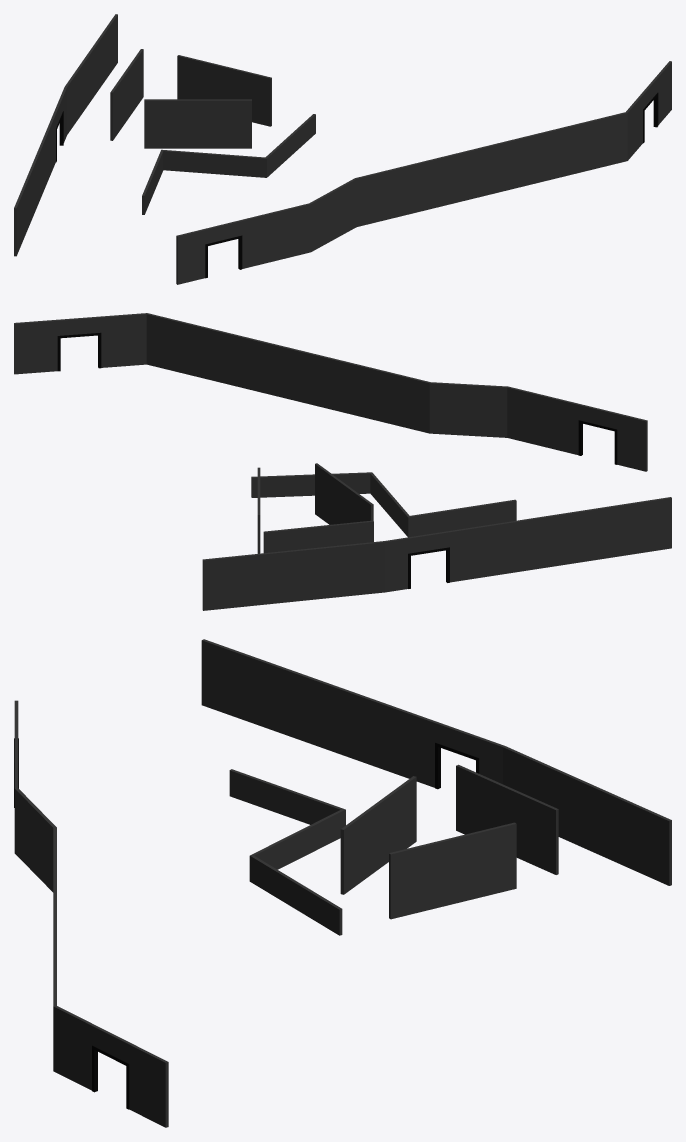
Rendered from Parede_ExatasEdaTerra_PrimeiroAndar.gltf.
The picture shows the model from 3 angles, top to bottom: view 1: azimuth 30°, elevation 25°; view 2: azimuth 150°, elevation 25°; view 3: azimuth 270°, elevation 25°; orthographic projection. The views are drawn at different scales.
Parts seen in each view (by area): view 1: Parede_Museu_08.010; view 2: Parede_Museu_08.010; view 3: Parede_Museu_08.010.
Boxes of the visible parts, box(x1,y1,x2,y2) form: Parede_Museu_08.010: box(14, 14, 671, 284); Parede_Museu_08.010: box(14, 313, 671, 610); Parede_Museu_08.010: box(14, 639, 671, 1127).
Size of the model in its own units: 69.94 by 5 by 45.9.
1 material, 1 textured.
